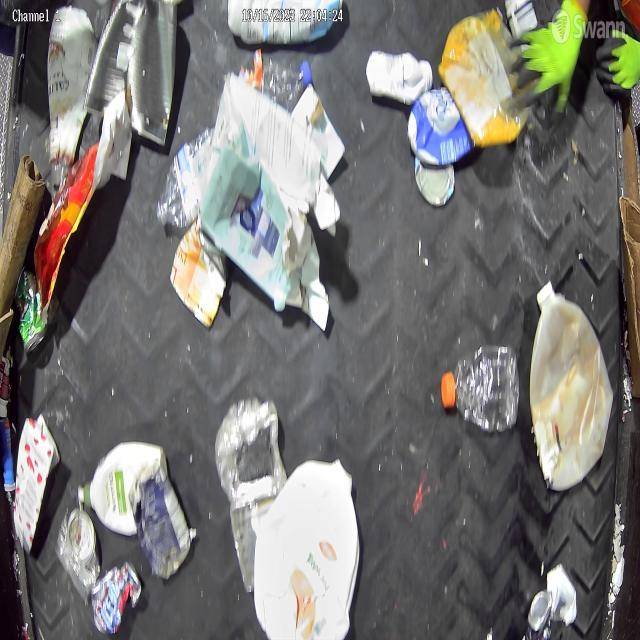can: (90, 0, 182, 160), (127, 458, 195, 591), (168, 216, 232, 338), (85, 559, 143, 640), (53, 499, 100, 596), (515, 584, 563, 640)
milk_jug: (250, 443, 359, 640), (525, 279, 616, 494)
plastic_bottle: (438, 339, 526, 446), (155, 122, 215, 230), (254, 45, 318, 119)
